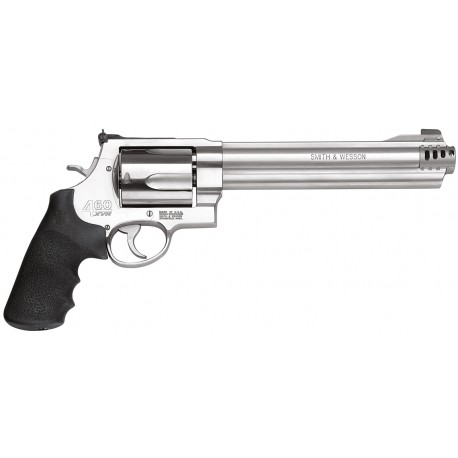Revolver: (1, 101, 455, 344)
